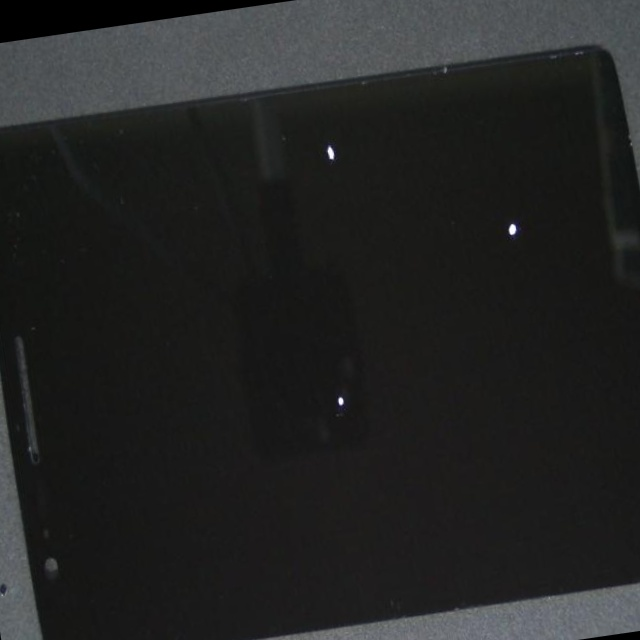stain: (78, 151, 521, 640), (168, 68, 640, 434), (82, 57, 531, 293)
